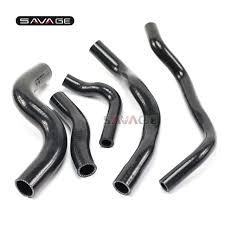radiator_hose: (144, 22, 216, 190), (90, 40, 160, 194), (13, 63, 64, 196)
